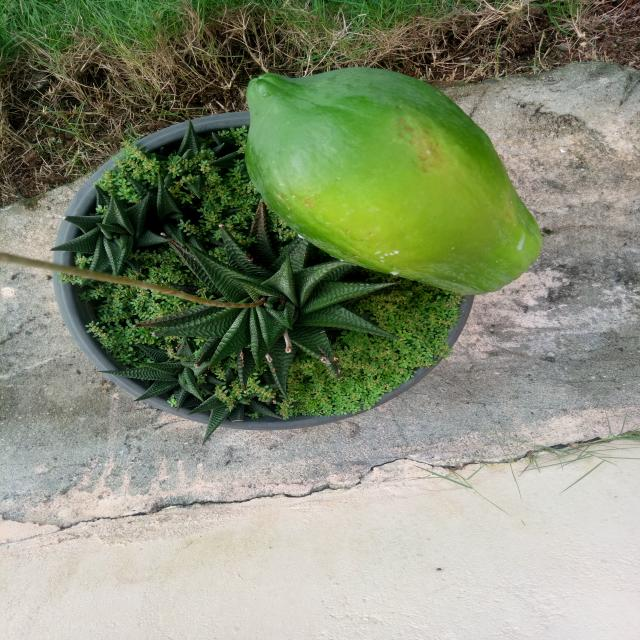Pepaya unrippen: (233, 61, 552, 310)
